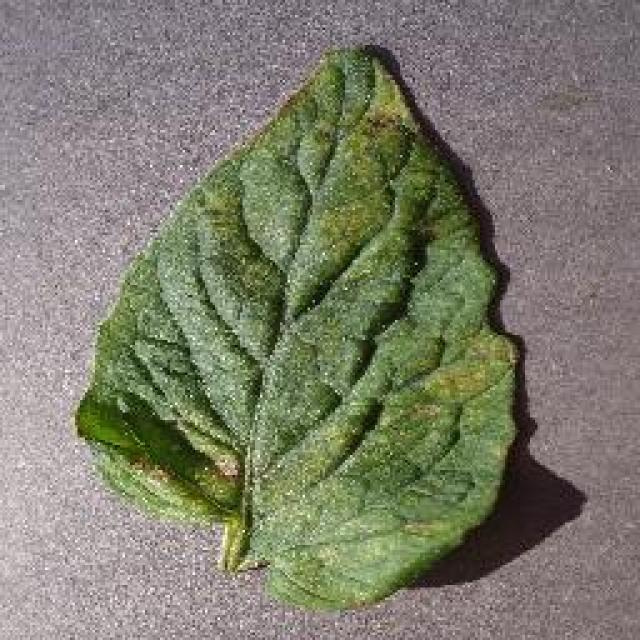Tomato___Spider_mites Two-spotted_spider_mite: (75, 48, 515, 605)
